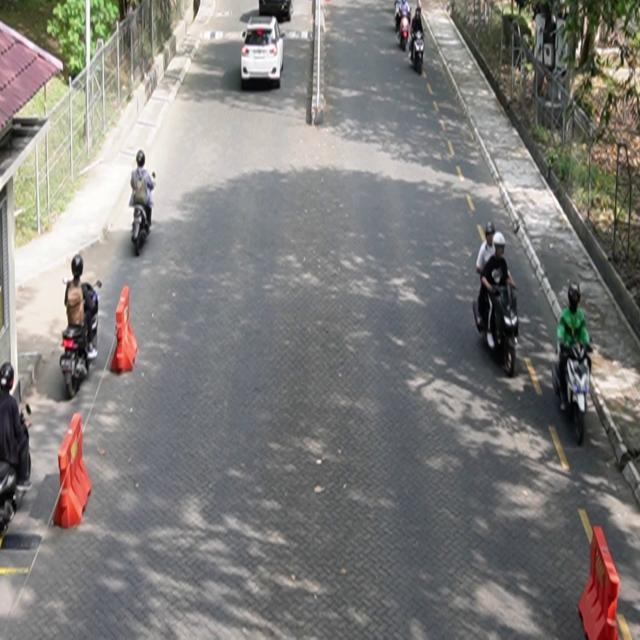car: (241, 15, 286, 90)
